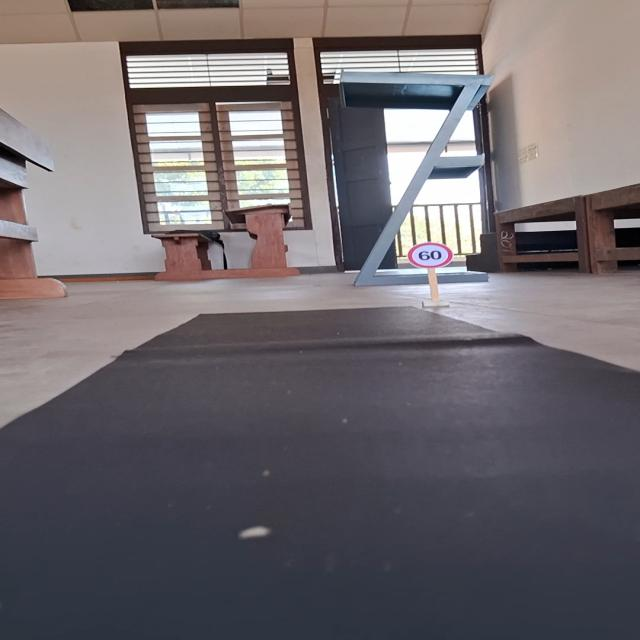Speed60: (406, 242, 455, 269)
